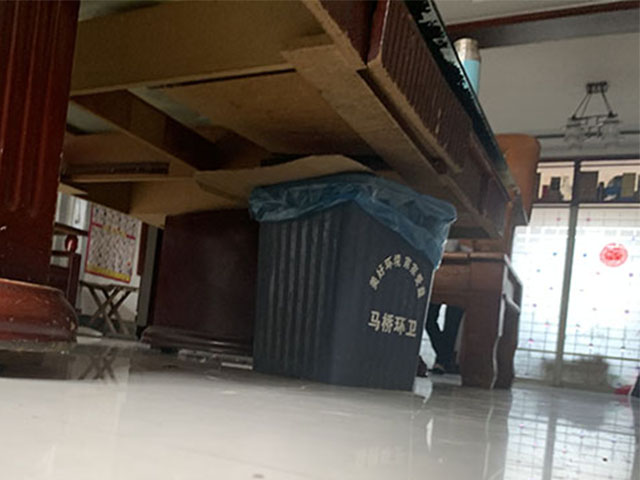stool: (76, 278, 142, 336)
trashcan: (247, 178, 457, 395)
